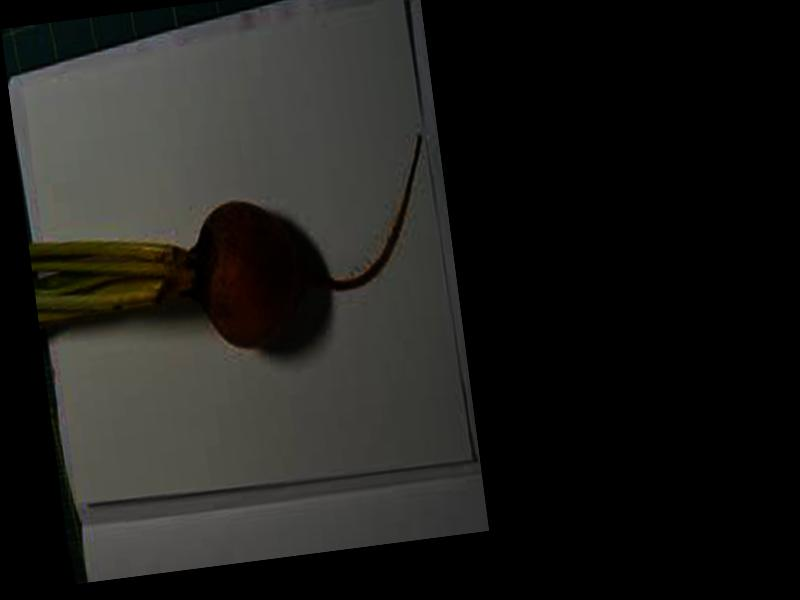Beet: (25, 136, 445, 373)
